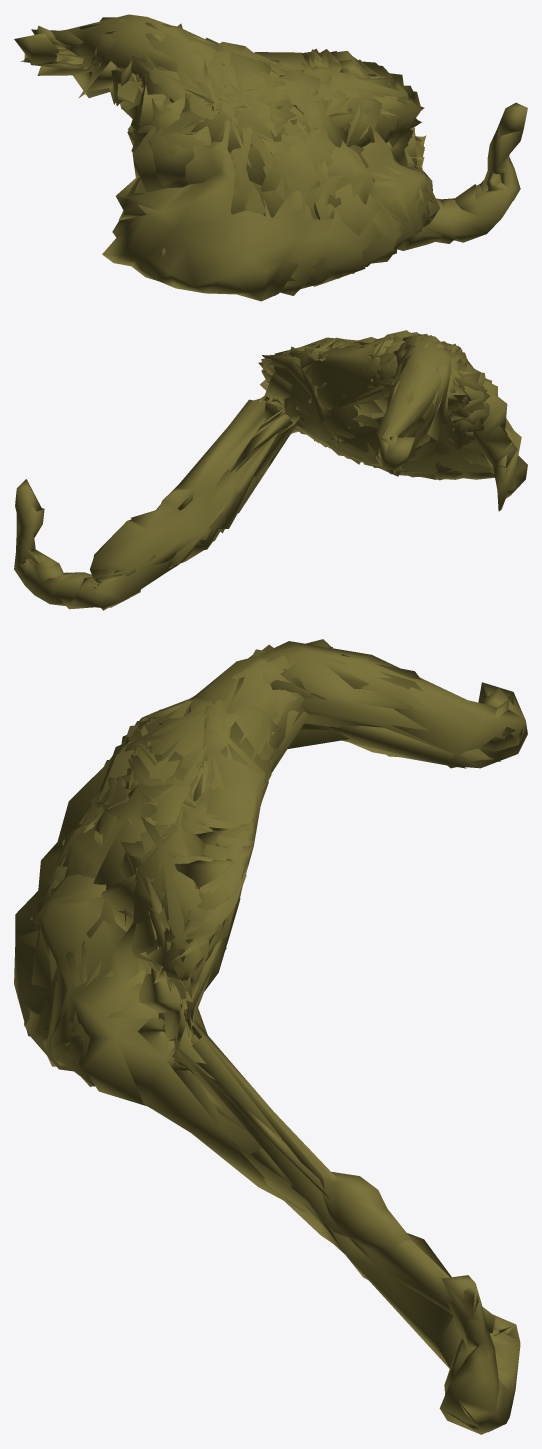
Rendered from row3.obj.
3 views of the same model, one above another, from view 1: azimuth 30°, elevation 25°; view 2: azimuth 150°, elevation 25°; view 3: azimuth 270°, elevation 25° (orthographic). The views are drawn at different scales.
Parts seen in each view (by area): view 1: row_3; view 2: row_3; view 3: row_3.
Part boxes in pixels (x1=…): row_3: x1=14, y1=14, x2=527, y2=301; row_3: x1=14, y1=330, x2=527, y2=610; row_3: x1=14, y1=639, x2=527, y2=1434.
Size of the model in its own units: 3.74 by 2.53 by 2.3.
